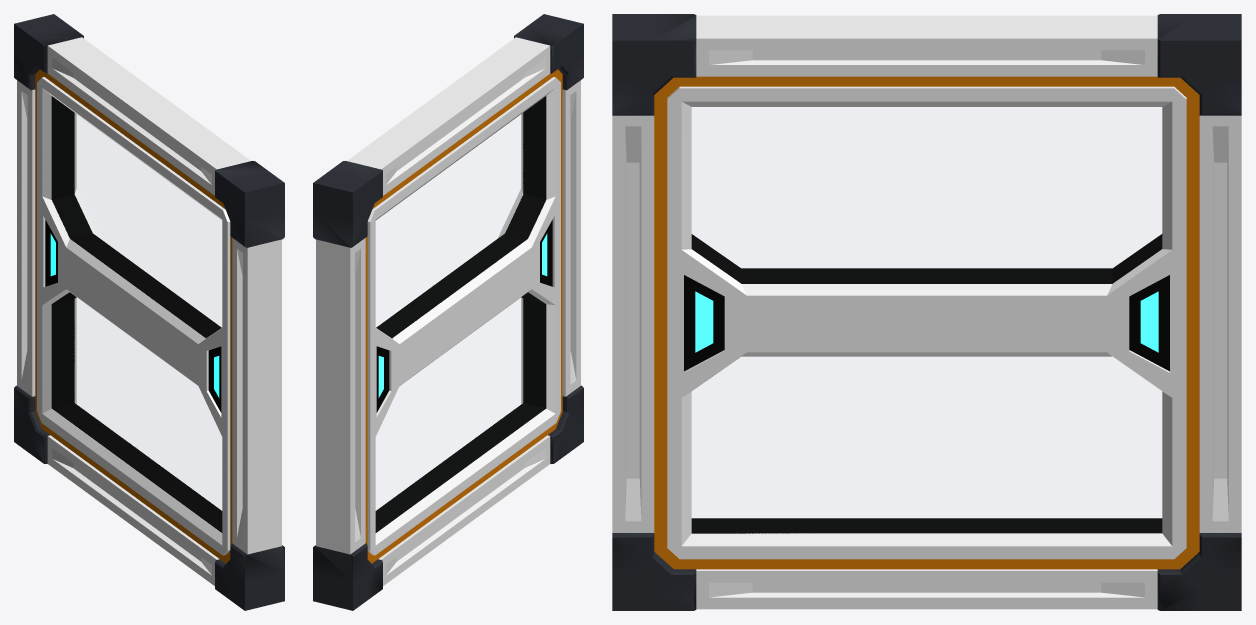
Rendered from SM_WallPanel_Large_Window_Double.glb.
The picture shows the model from 3 angles, left to right: view 1: azimuth 30°, elevation 25°; view 2: azimuth 150°, elevation 25°; view 3: azimuth 270°, elevation 25°; orthographic projection. The views are drawn at different scales.
Visible parts, largest first — view 1: SM_WallPanel_Large_Window_Double; view 2: SM_WallPanel_Large_Window_Double; view 3: SM_WallPanel_Large_Window_Double.
Part boxes in pixels (box(x1,y1,x2,y2)): SM_WallPanel_Large_Window_Double: box(14, 14, 284, 610); SM_WallPanel_Large_Window_Double: box(313, 14, 583, 610); SM_WallPanel_Large_Window_Double: box(612, 14, 1241, 610).
Size of the model in its own units: 0.4 by 4 by 4.
